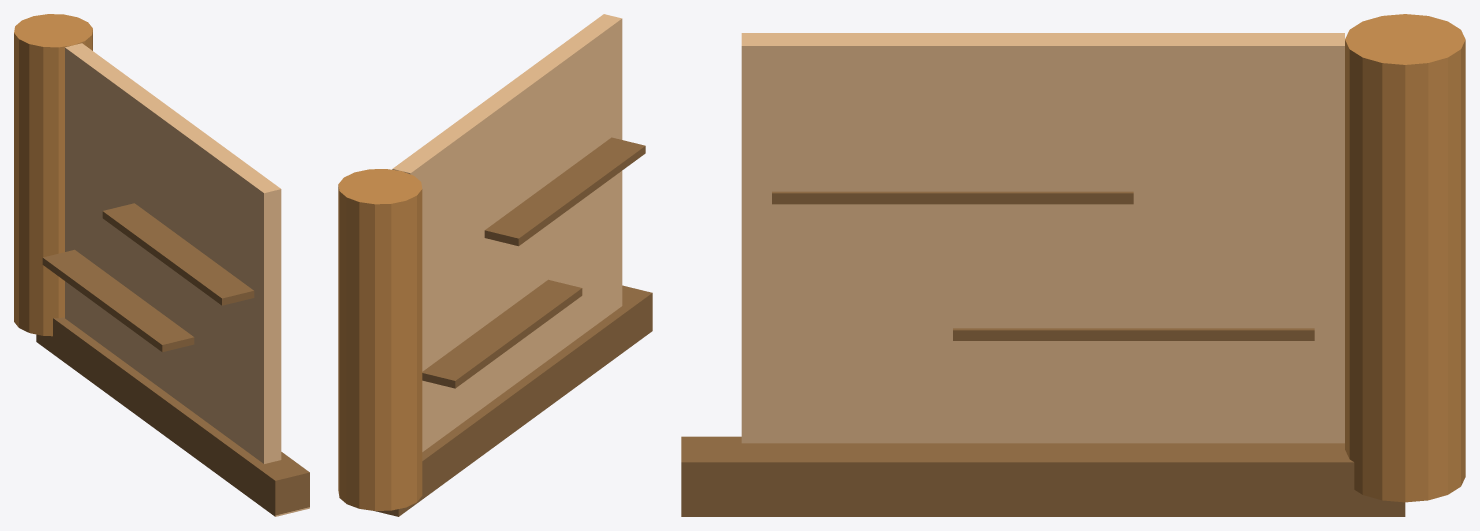
The model's file is Wall_L.obj.
3 renders of one model, left to right at view 1: azimuth 30°, elevation 25°; view 2: azimuth 150°, elevation 25°; view 3: azimuth 270°, elevation 25°, orthographic. The views are drawn at different scales.
Parts seen in each view (by area): view 1: 壁.003, 支柱.003, 幅木.001, 棚.001, 棚; view 2: 壁.003, 支柱.003, 幅木.001, 棚, 棚.001; view 3: 壁.003, 支柱.003, 幅木.001, 棚, 棚.001.
Boxes of the visible parts, bbox=[...] form: 壁.003: bbox=[65, 43, 281, 463]; 支柱.003: bbox=[14, 14, 92, 336]; 幅木.001: bbox=[36, 317, 309, 516]; 棚.001: bbox=[42, 249, 194, 352]; 棚: bbox=[102, 203, 254, 305]; 壁.003: bbox=[392, 14, 622, 451]; 支柱.003: bbox=[338, 169, 422, 510]; 幅木.001: bbox=[375, 285, 652, 516]; 棚: bbox=[484, 137, 645, 246]; 棚.001: bbox=[422, 279, 582, 388]; 壁.003: bbox=[741, 33, 1344, 443]; 支柱.003: bbox=[1345, 14, 1465, 502]; 幅木.001: bbox=[681, 436, 1405, 516]; 棚: bbox=[772, 191, 1133, 204]; 棚.001: bbox=[953, 328, 1314, 340].
Size of the model in its own units: 0.727 by 2.84 by 4.34.
Materials: 1 (1 with a texture image).
